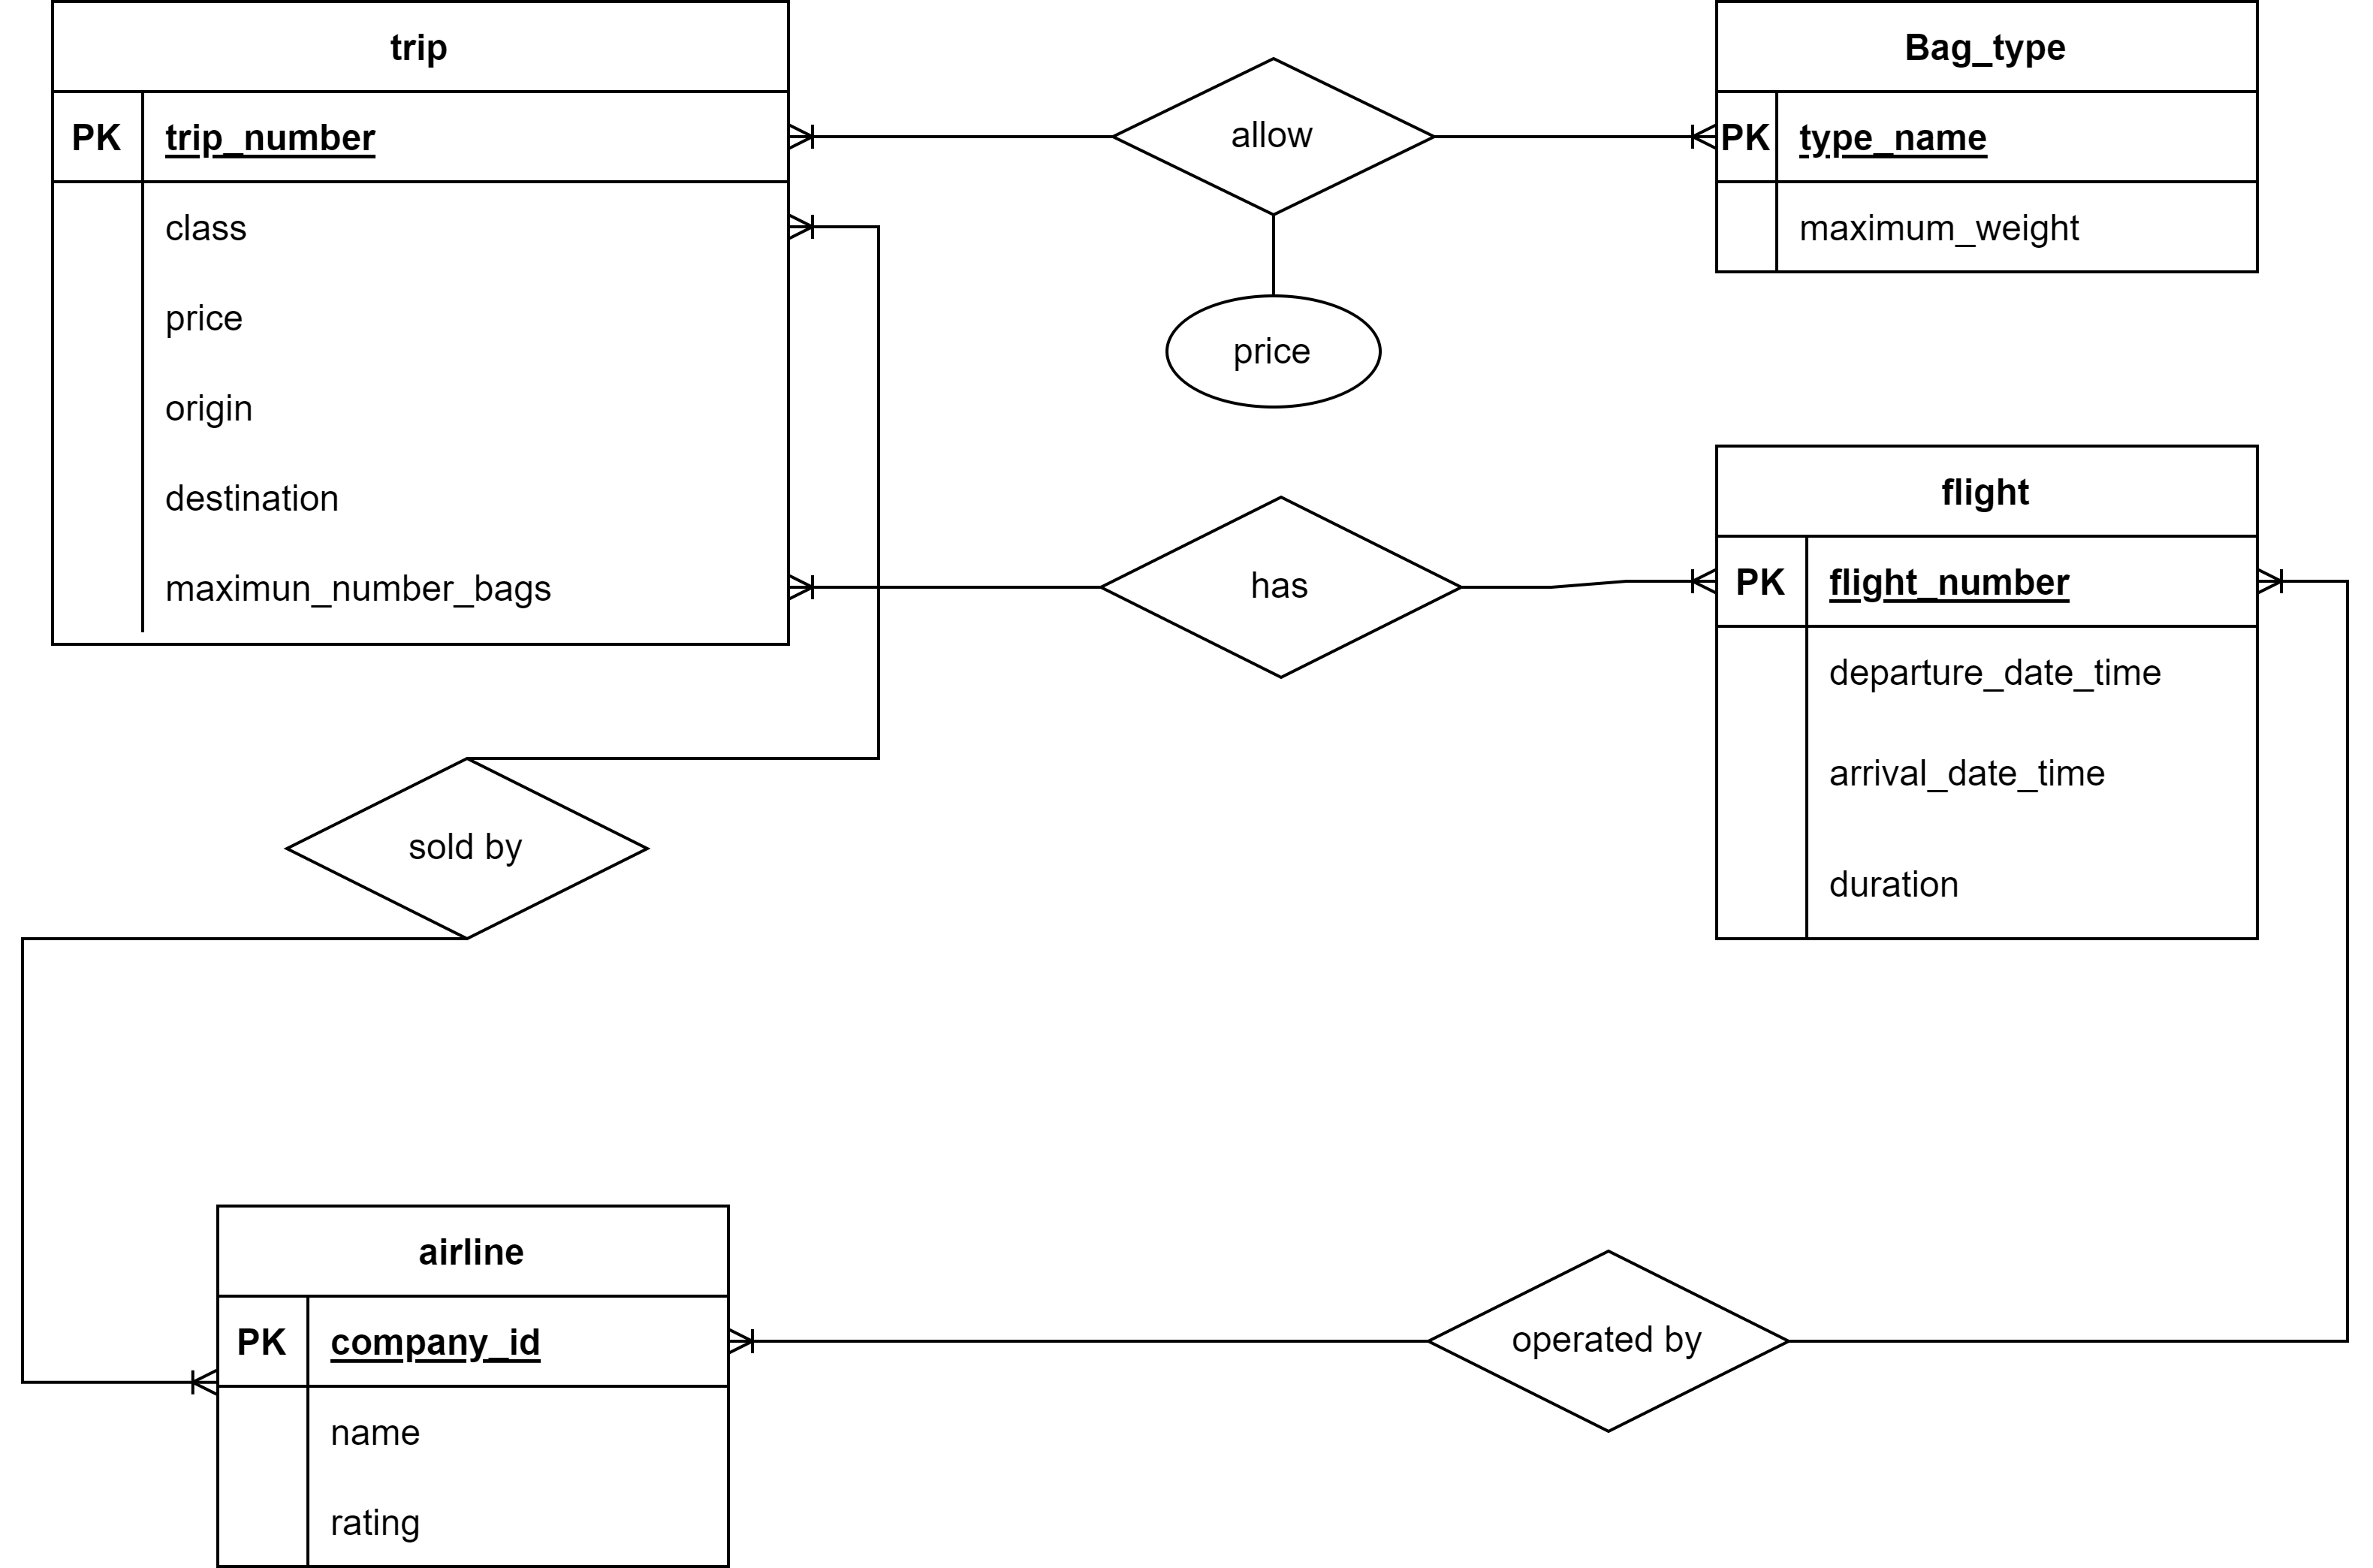entity: (53, 3, 789, 644), (1713, 446, 2261, 938), (214, 1204, 730, 1568), (1717, 2, 2258, 275)
many: (724, 1300, 837, 1377), (2256, 542, 2352, 628), (786, 191, 879, 269), (789, 549, 879, 625), (1629, 548, 1724, 616), (147, 1346, 219, 1414), (1636, 112, 1719, 163), (782, 114, 847, 164)
rel: (1099, 499, 1465, 679), (1430, 1248, 1789, 1430), (285, 758, 651, 936), (1115, 56, 1433, 214)
rel_attr: (1166, 294, 1383, 406)
